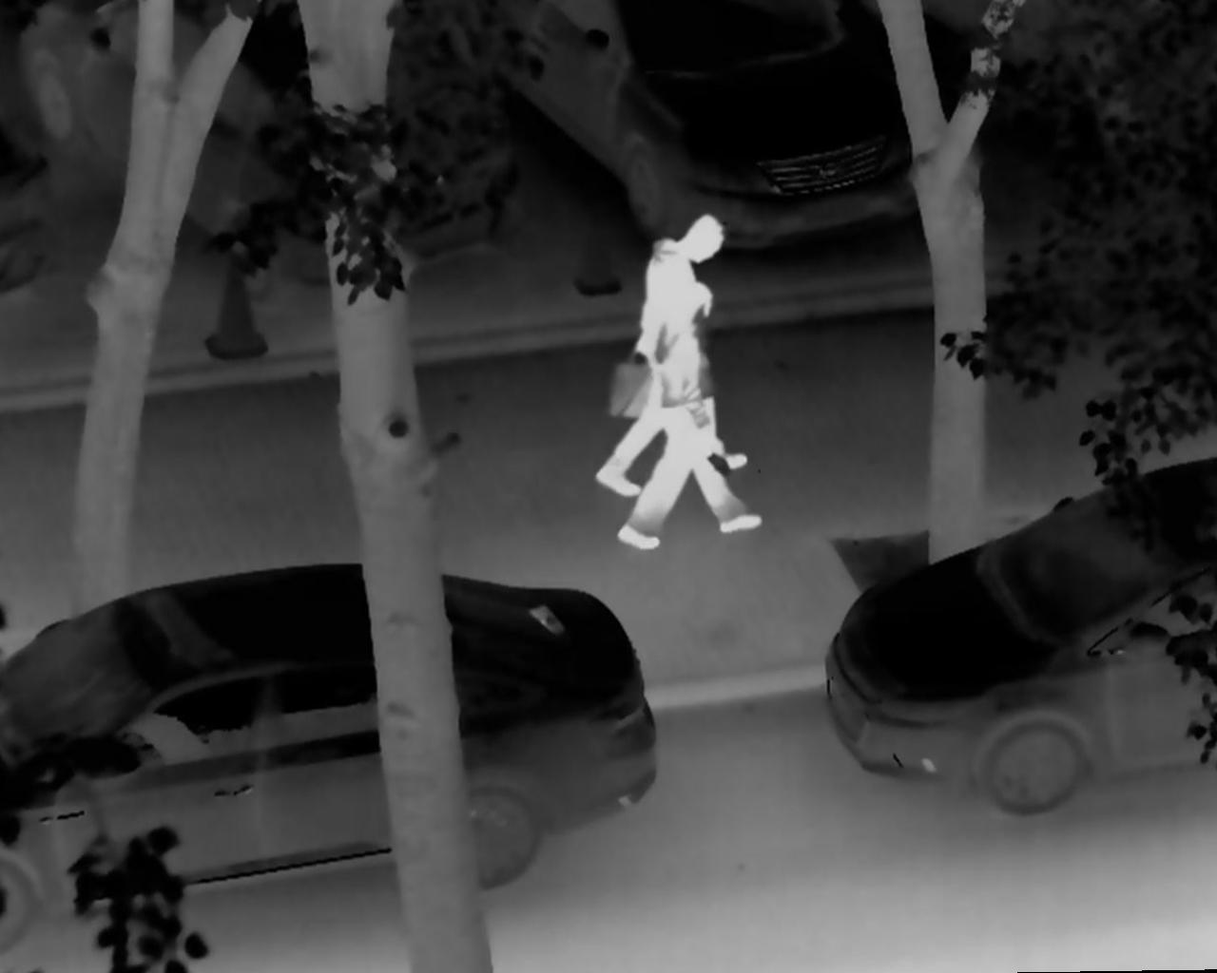person: (591, 209, 752, 496), (614, 284, 763, 550)
